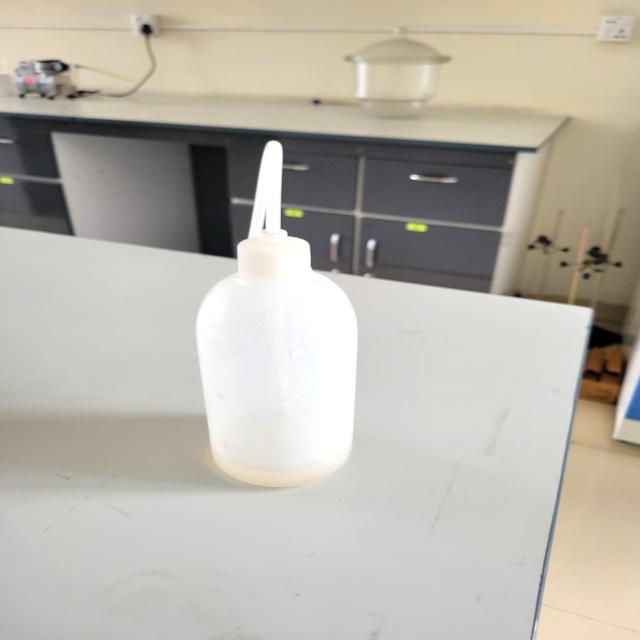Wash_Bottle: (176, 137, 396, 505)
